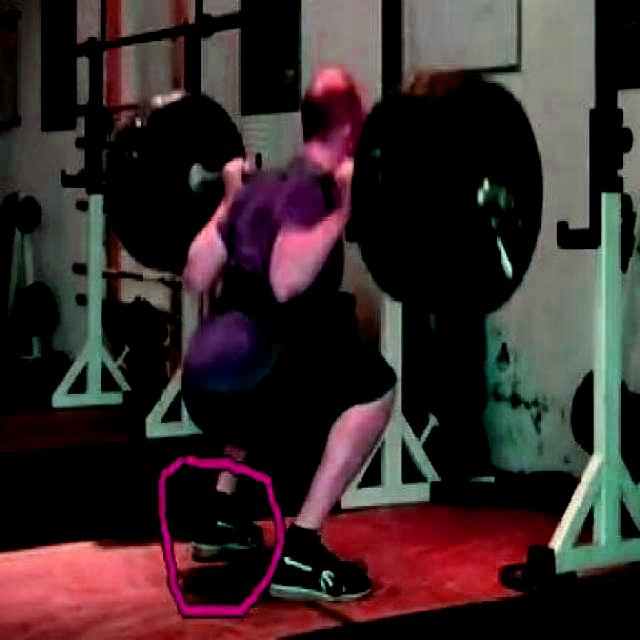barbell: (400, 78, 545, 325)
